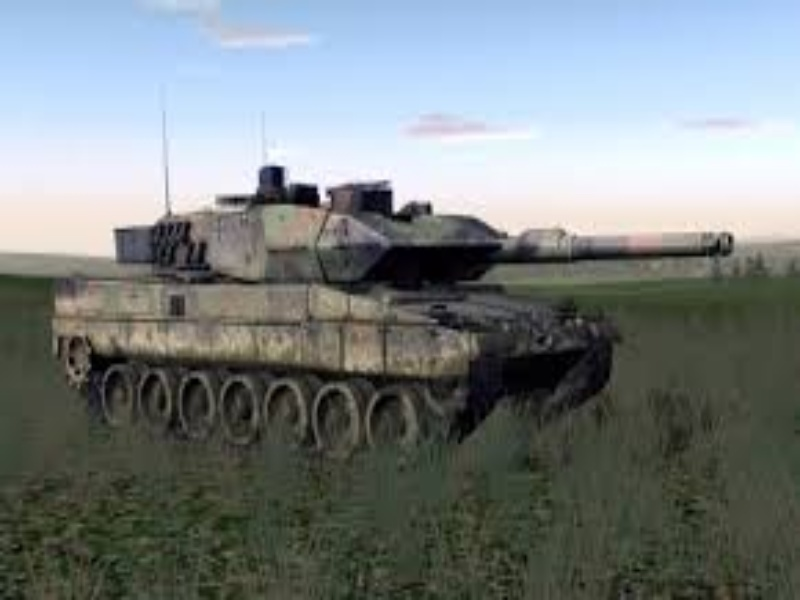tank: (48, 165, 744, 466)
